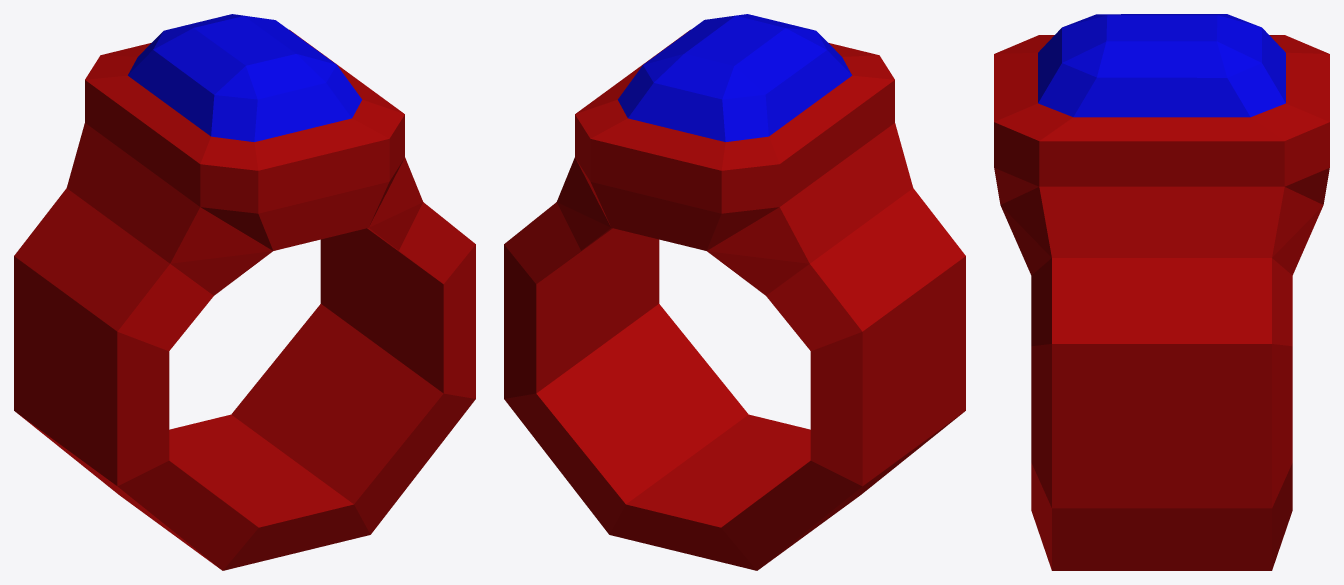
File: Ring_10.fbx
The picture shows the model from 3 angles, left to right: view 1: azimuth 30°, elevation 25°; view 2: azimuth 150°, elevation 25°; view 3: azimuth 270°, elevation 25°; orthographic projection. The views are drawn at different scales.
Visible parts, largest first — view 1: SM_Item_Ring_10; view 2: SM_Item_Ring_10; view 3: SM_Item_Ring_10.
Part boxes in pixels (x1,y1,x2,y2): SM_Item_Ring_10: (14, 14, 475, 570); SM_Item_Ring_10: (504, 14, 965, 570); SM_Item_Ring_10: (994, 14, 1329, 570).
Bounding box in the file's own units: 5.07 × 6.41 × 3.87.
